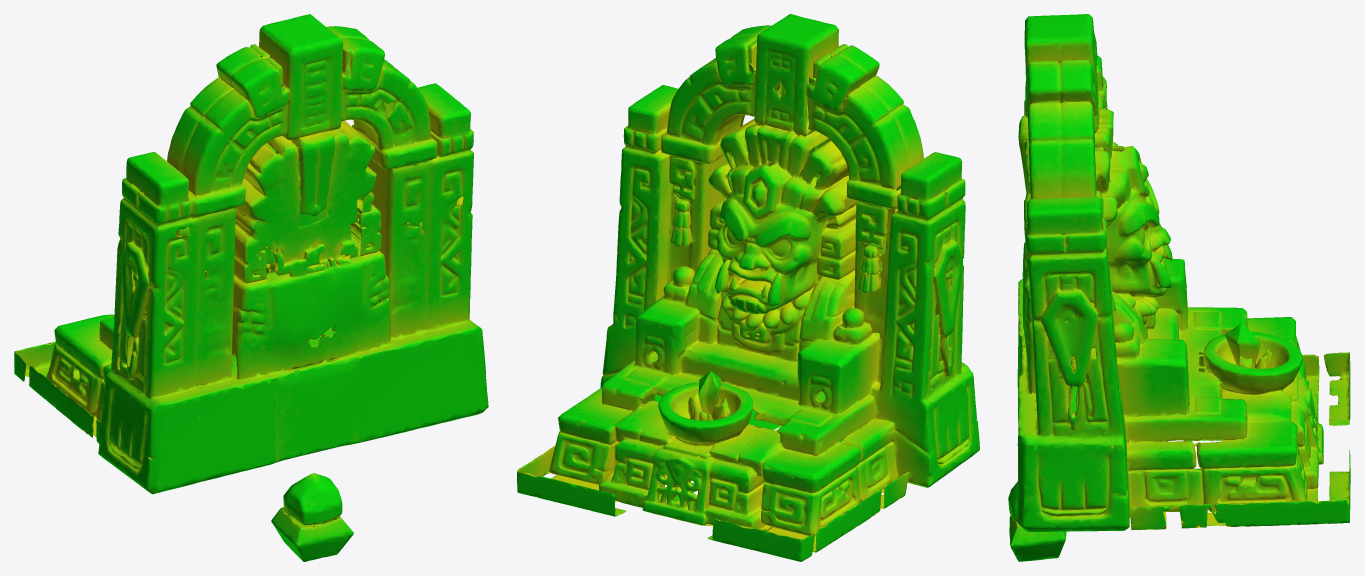
Rendered from idolaltar_outline.fbx.
3 views of the same model, side by side, from view 1: azimuth 30°, elevation 25°; view 2: azimuth 150°, elevation 25°; view 3: azimuth 270°, elevation 25° (orthographic). The views are drawn at different scales.
Parts seen in each view (by area): view 1: idolaltar_outline; view 2: idolaltar_outline; view 3: idolaltar_outline.
Part boxes in pixels (x1,y1,x2,y2): idolaltar_outline: (14,14,488,561); idolaltar_outline: (517,14,979,561); idolaltar_outline: (1008,14,1350,561).
Bounding box in the file's own units: 126 × 180 × 106.
